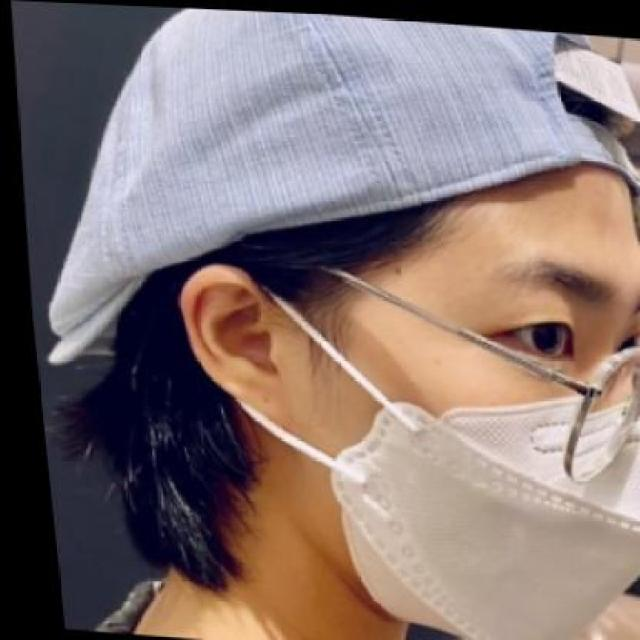hat: (39, 6, 640, 365)
